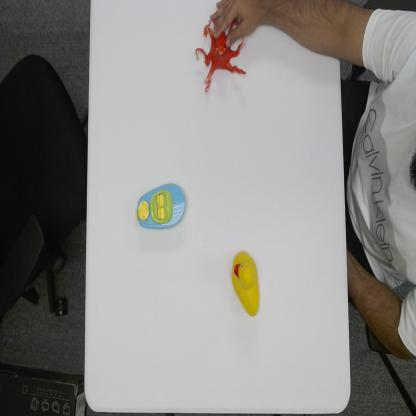Boat: (134, 180, 188, 233)
Duck: (230, 247, 261, 318)
Hand: (204, 0, 274, 50)
Octopus: (194, 20, 247, 95)
